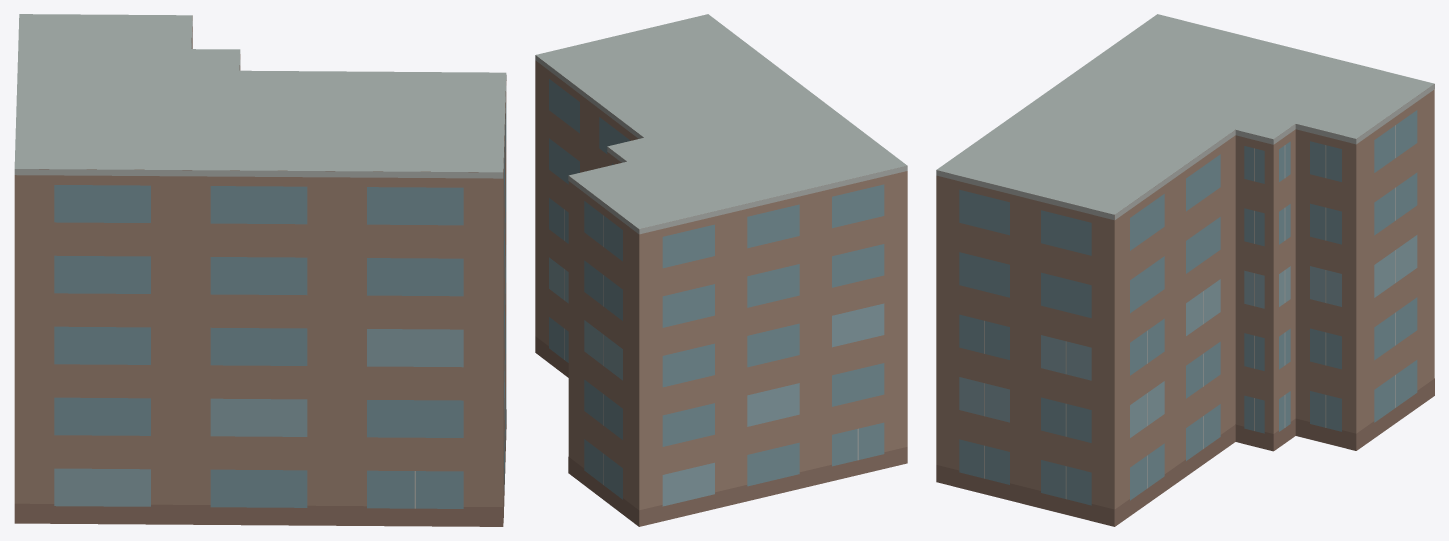
The model's file is survey-upis-33020853.glb.
3 views of the same model, side by side, from view 1: azimuth 30°, elevation 25°; view 2: azimuth 150°, elevation 25°; view 3: azimuth 270°, elevation 25° (orthographic). The views are drawn at different scales.
Visible parts, largest first — view 1: survey-upis-33020853.tmp; view 2: survey-upis-33020853.tmp; view 3: survey-upis-33020853.tmp.
Part boxes in pixels (x1,y1,x2,y2): survey-upis-33020853.tmp: [14, 14, 506, 526]; survey-upis-33020853.tmp: [535, 14, 907, 526]; survey-upis-33020853.tmp: [936, 14, 1434, 526].
Size of the model in its own units: 19.08 by 13.82 by 20.02.
